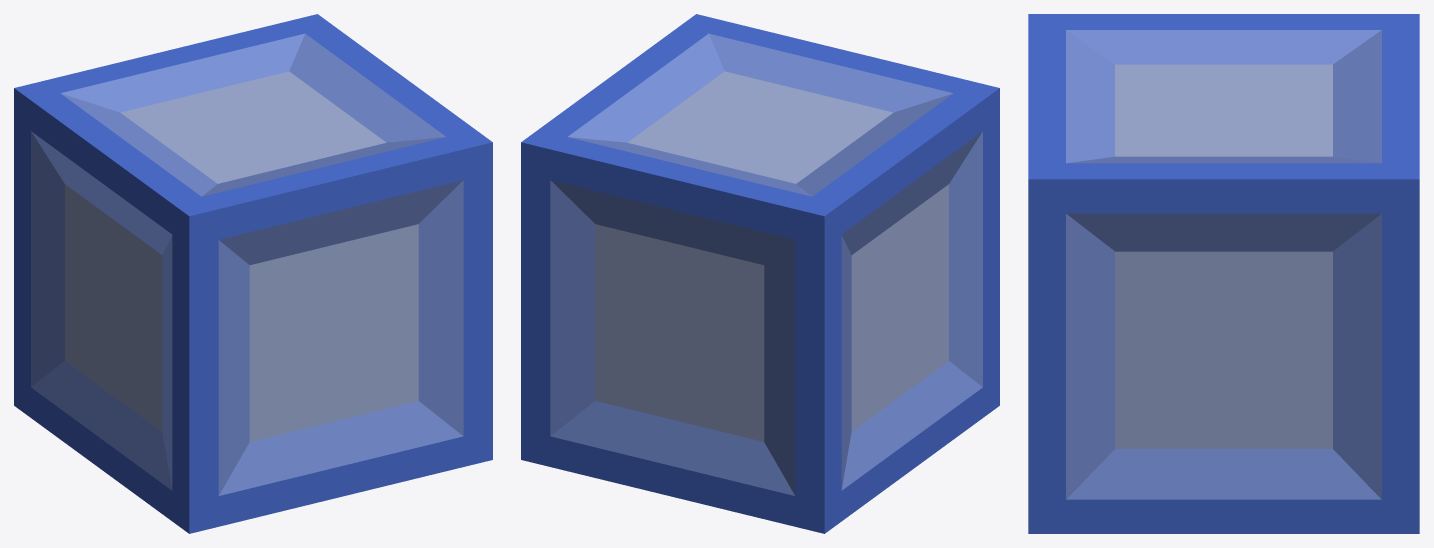
The model's file is CubeBlue.fbx.
3 views of the same model, side by side, from view 1: azimuth 30°, elevation 25°; view 2: azimuth 150°, elevation 25°; view 3: azimuth 270°, elevation 25° (orthographic). The views are drawn at different scales.
Visible parts, largest first — view 1: Cube.003; view 2: Cube.003; view 3: Cube.003.
Part boxes in pixels (box(x1,y1,x2,y2)): Cube.003: box(14, 14, 492, 533); Cube.003: box(521, 14, 999, 533); Cube.003: box(1028, 14, 1419, 533).
Bounding box in the file's own units: 109 × 109 × 109.
